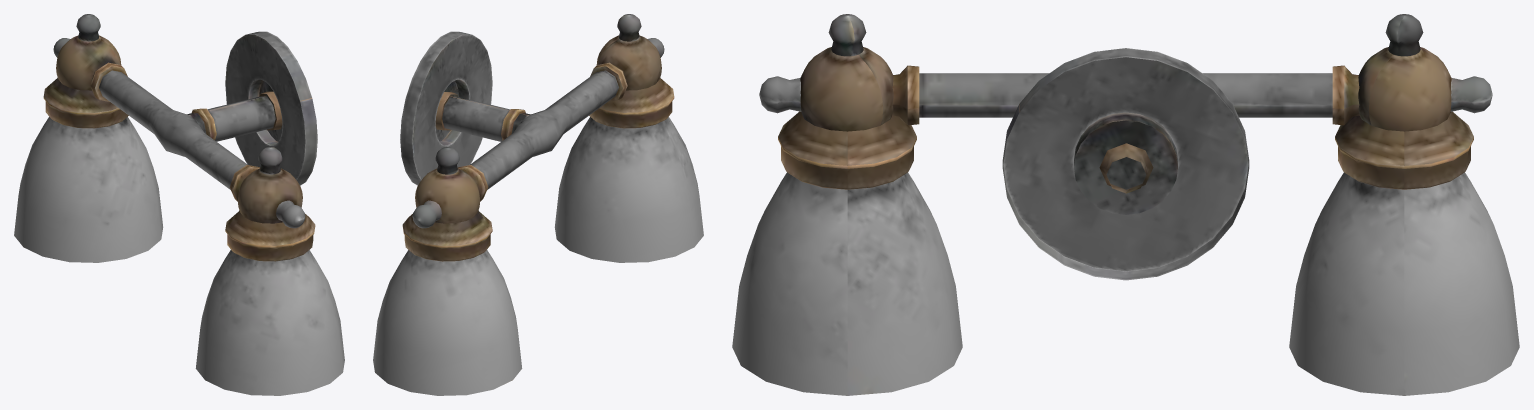
The model's file is luz_aplique_cristal.glb.
The picture shows the model from 3 angles, left to right: view 1: azimuth 30°, elevation 25°; view 2: azimuth 150°, elevation 25°; view 3: azimuth 270°, elevation 25°; orthographic projection. The views are drawn at different scales.
Visible parts, largest first — view 1: defaultMaterial; view 2: defaultMaterial; view 3: defaultMaterial.
Part boxes in pixels (x1,y1,x2,y2): defaultMaterial: (14,14,344,395); defaultMaterial: (373,14,703,395); defaultMaterial: (732,14,1519,395).
Bounding box in the file's own units: 0.2883 × 0.38 × 0.7462.
Materials: 1 (1 with a texture image).
